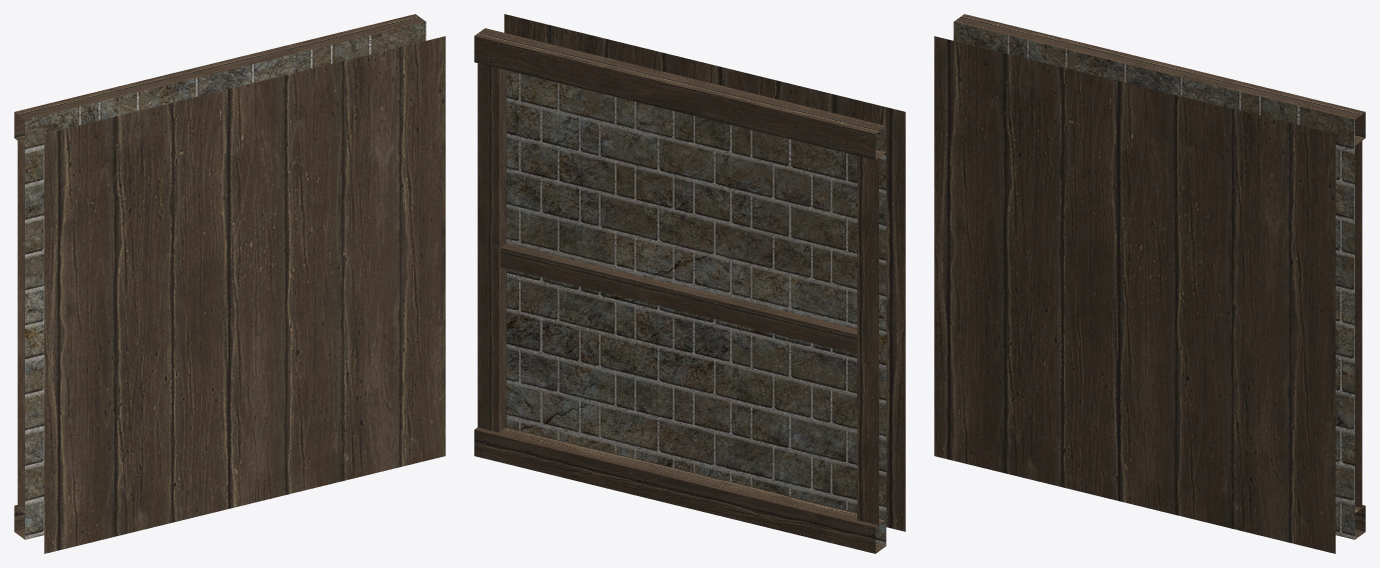
The model's file is ARC1010234.fbx.
3 renders of one model, left to right at view 1: azimuth 30°, elevation 25°; view 2: azimuth 150°, elevation 25°; view 3: azimuth 330°, elevation 25°, orthographic.
Visible parts, largest first — view 1: smARC1010234; view 2: smARC1010234; view 3: smARC1010234.
Part boxes in pixels (left/top/right/bottom): smARC1010234: left=14, top=14, right=445, bottom=553; smARC1010234: left=474, top=14, right=905, bottom=553; smARC1010234: left=934, top=14, right=1365, bottom=553.
Size of the model in its own units: 268 by 268 by 34.9.
1 material, 1 textured.
